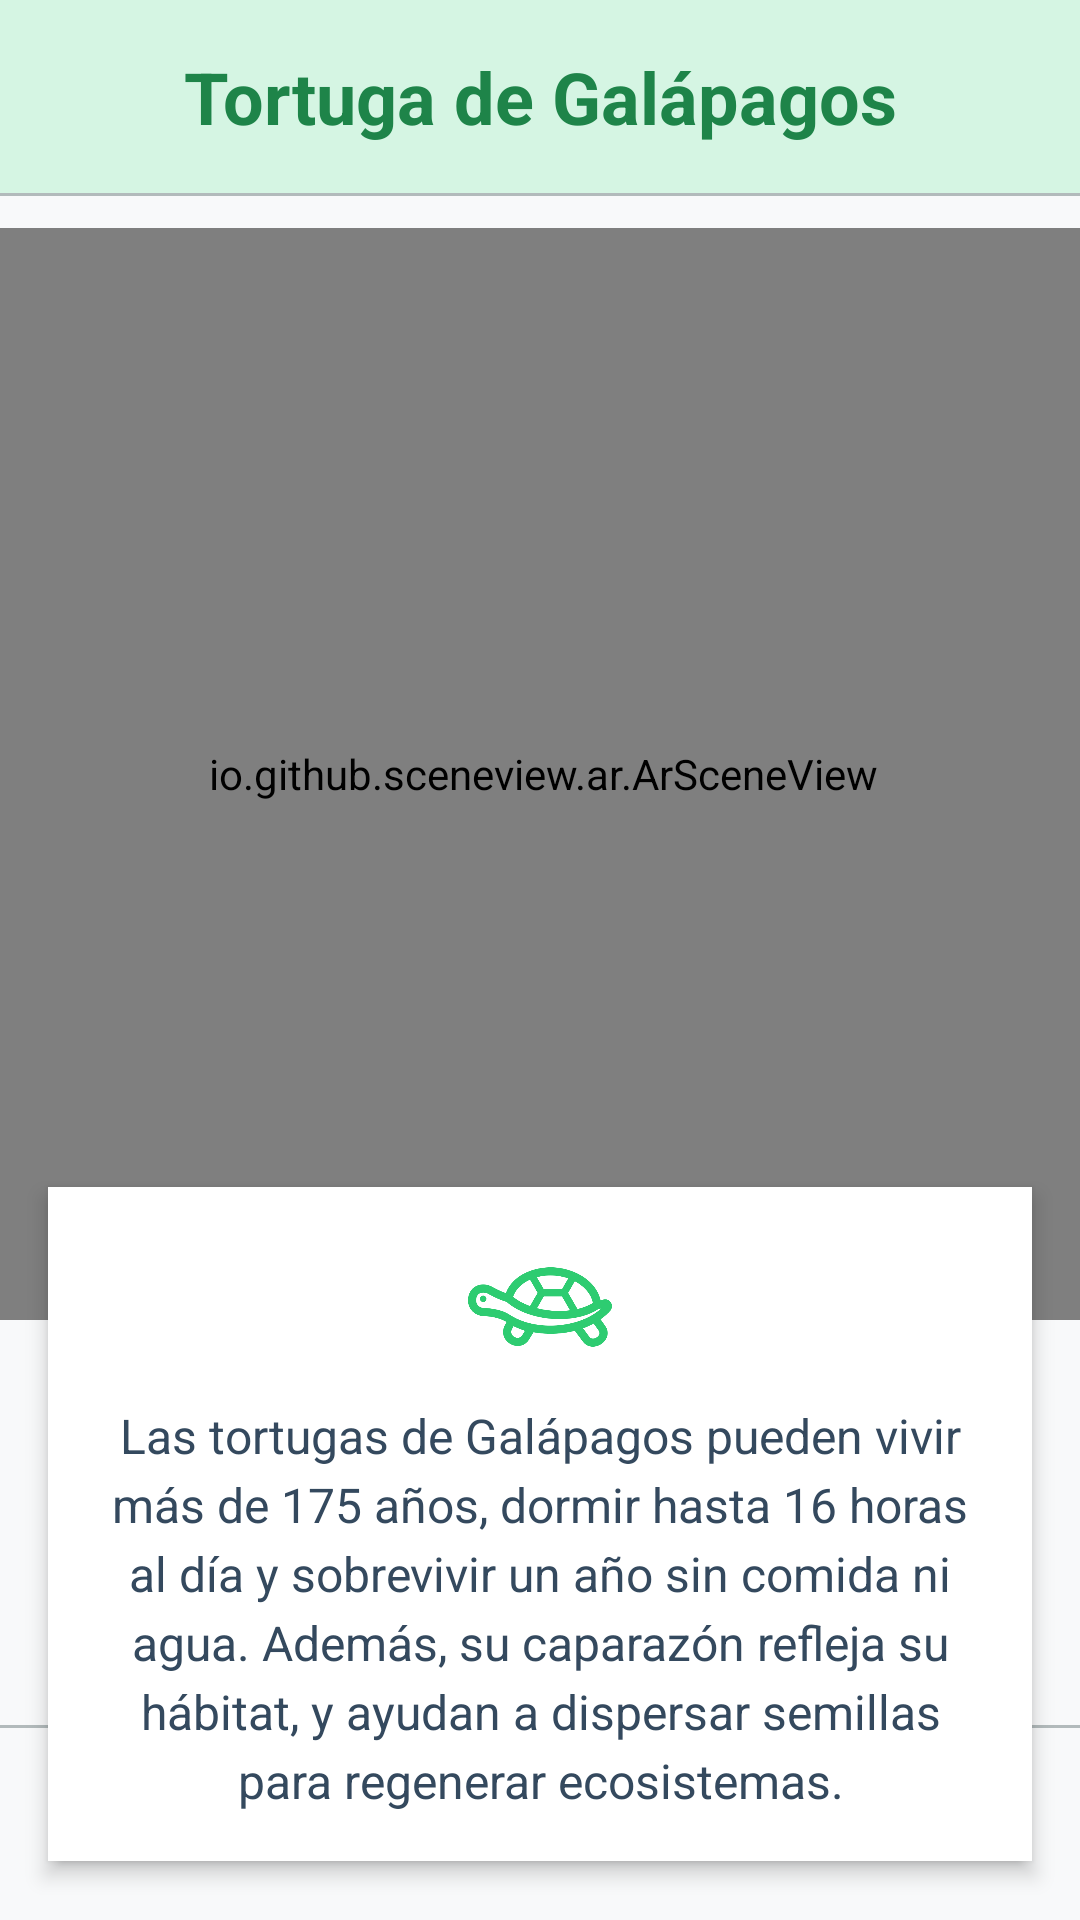

Icon bounding boxes for this 1080x1920 phone screenshot, format [x1, y1, x2, y2]:
Icono de tortuga: [468, 1267, 612, 1347]
